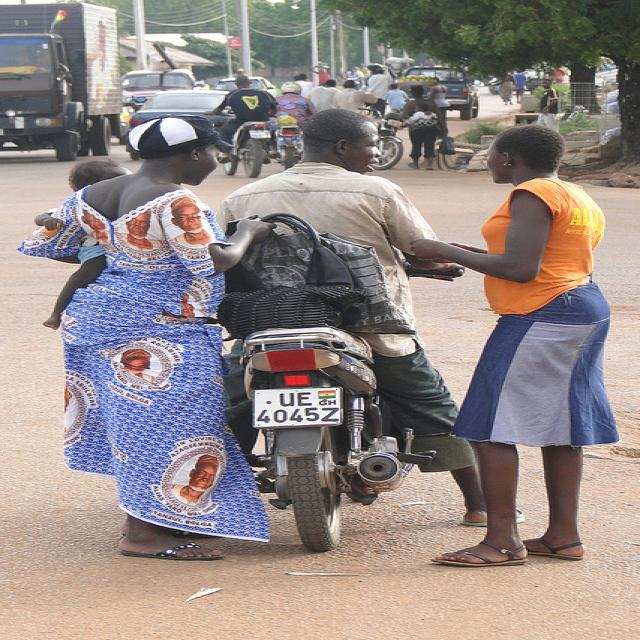motor: (235, 331, 430, 553), (212, 106, 272, 179), (357, 106, 408, 170)
